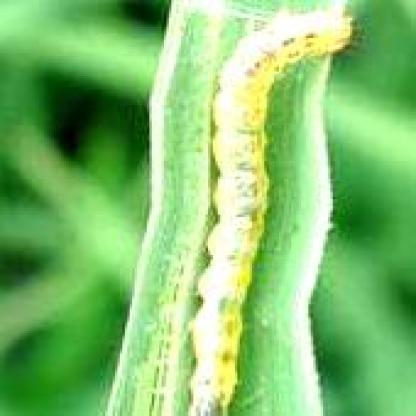leaf-folder: (168, 7, 372, 416)
